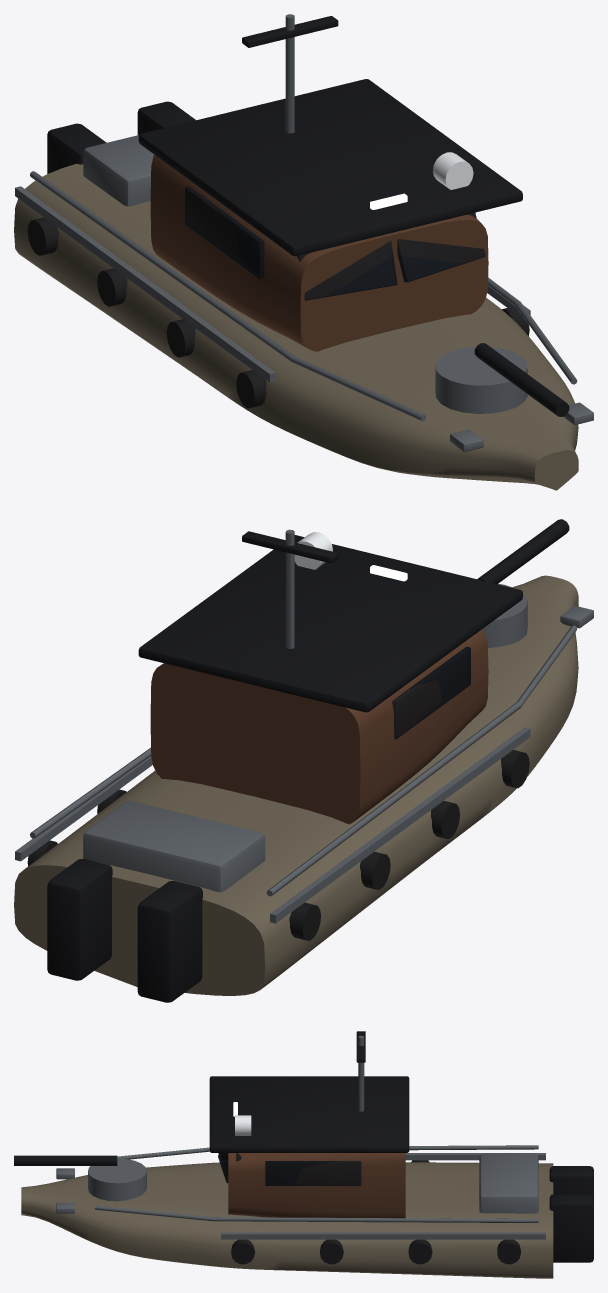
The model's file is scrap-patrol-boat.glb.
3 views of the same model, one above another, from view 1: azimuth 30°, elevation 25°; view 2: azimuth 150°, elevation 25°; view 3: azimuth 270°, elevation 25° (orthographic). The views are drawn at different scales.
Parts seen in each view (by area): view 1: Body; view 2: Body; view 3: Body.
Part boxes in pixels (x1,y1,x2,y2): Body: (14, 14, 593, 490); Body: (14, 519, 593, 1002); Body: (14, 1031, 593, 1278).
Size of the model in its own units: 2.74 by 3.3 by 7.85.
